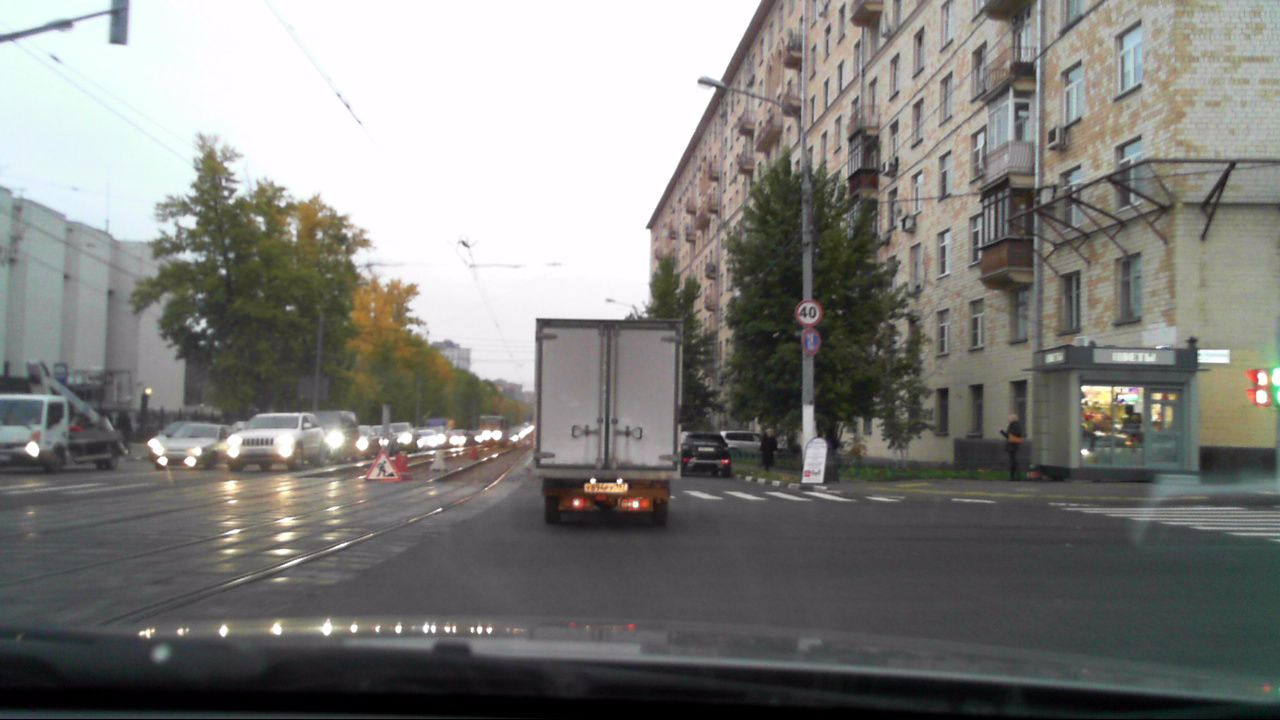speed_warning_40: (795, 299, 821, 327)
